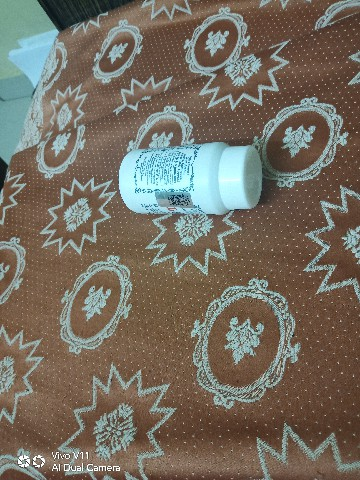lgasafoetidapowder large: (97, 130, 278, 232)
